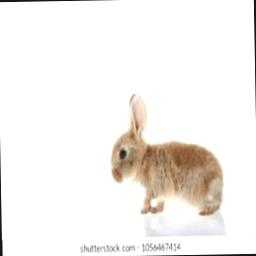rabbit: (110, 93, 224, 215)
